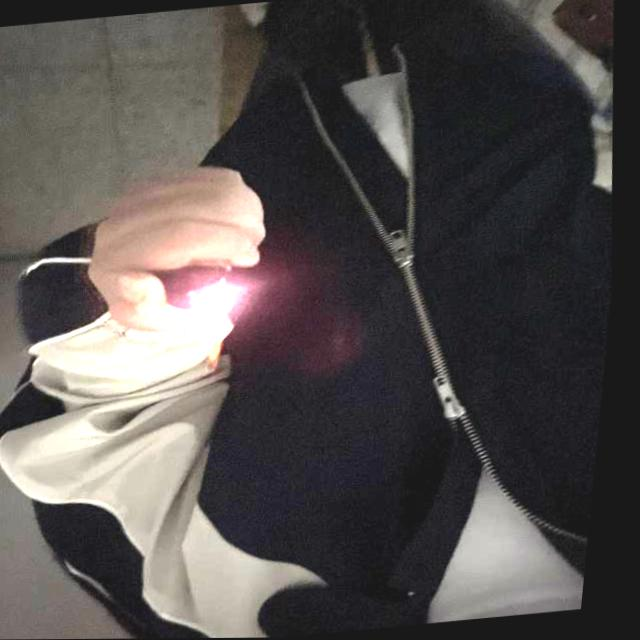helmet: (203, 287, 244, 372)
